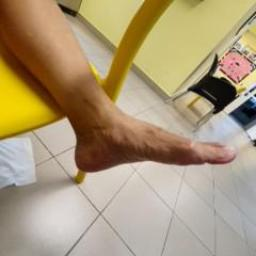Medial View -Left Foot-: (52, 77, 246, 193)
